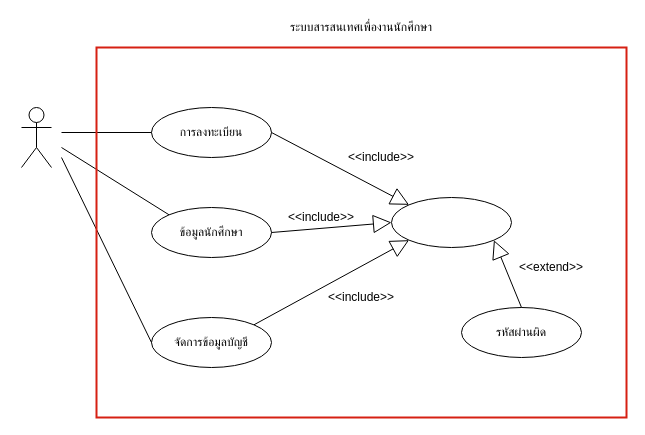
Some shapes in this 645 by 435 pixel diagram are drawn without their labels. Each missing label, with the box of its shape:
นักศึกษา: (20, 106, 52, 168)
เข้าสู่ระบบ: (390, 196, 512, 248)
